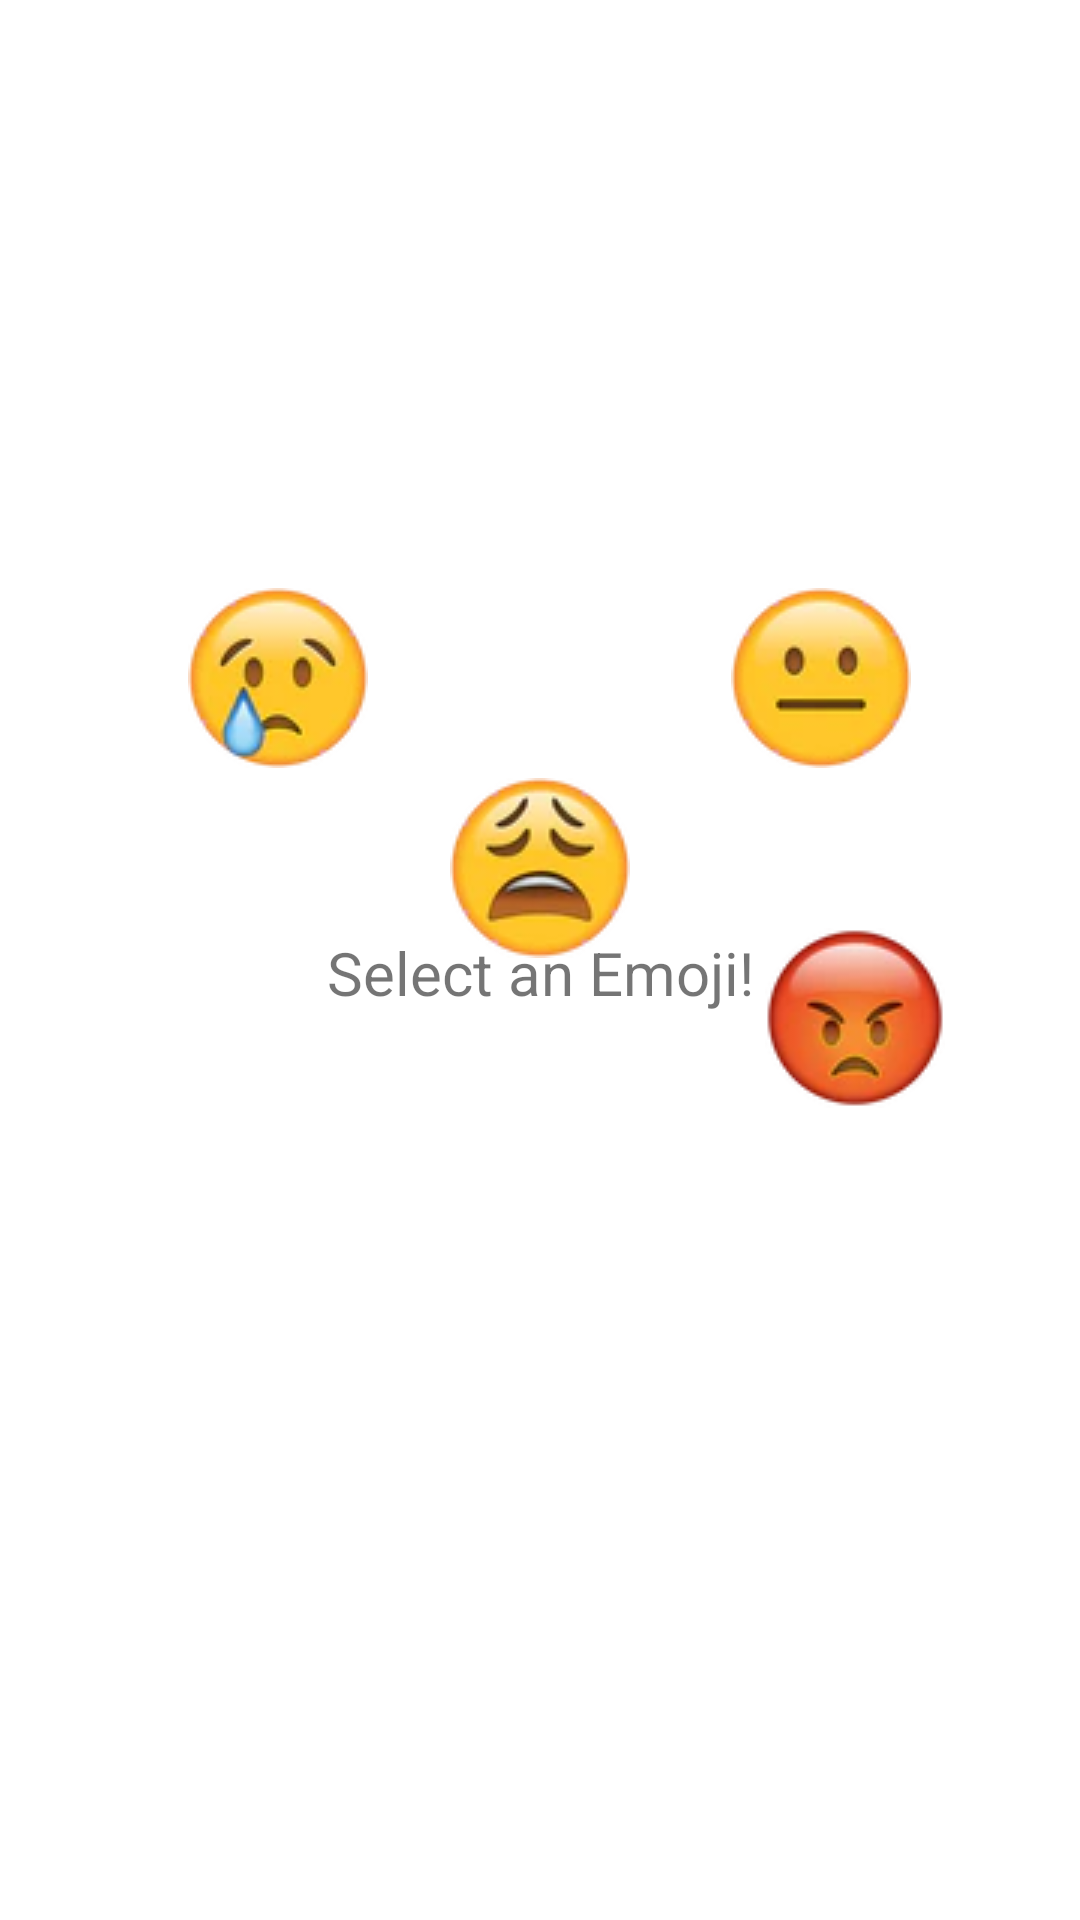

Icon bounding boxes for this 1080×1920 phone screenshot, format (x1=x1, y1=y1, x2=x2, y2=y2):
crying face emoji: (x1=188, y1=588, x2=368, y2=768)
neutral face emoji: (x1=731, y1=588, x2=911, y2=768)
tired face emoji: (x1=450, y1=778, x2=630, y2=958)
very angry emoji: (x1=767, y1=930, x2=943, y2=1106)
